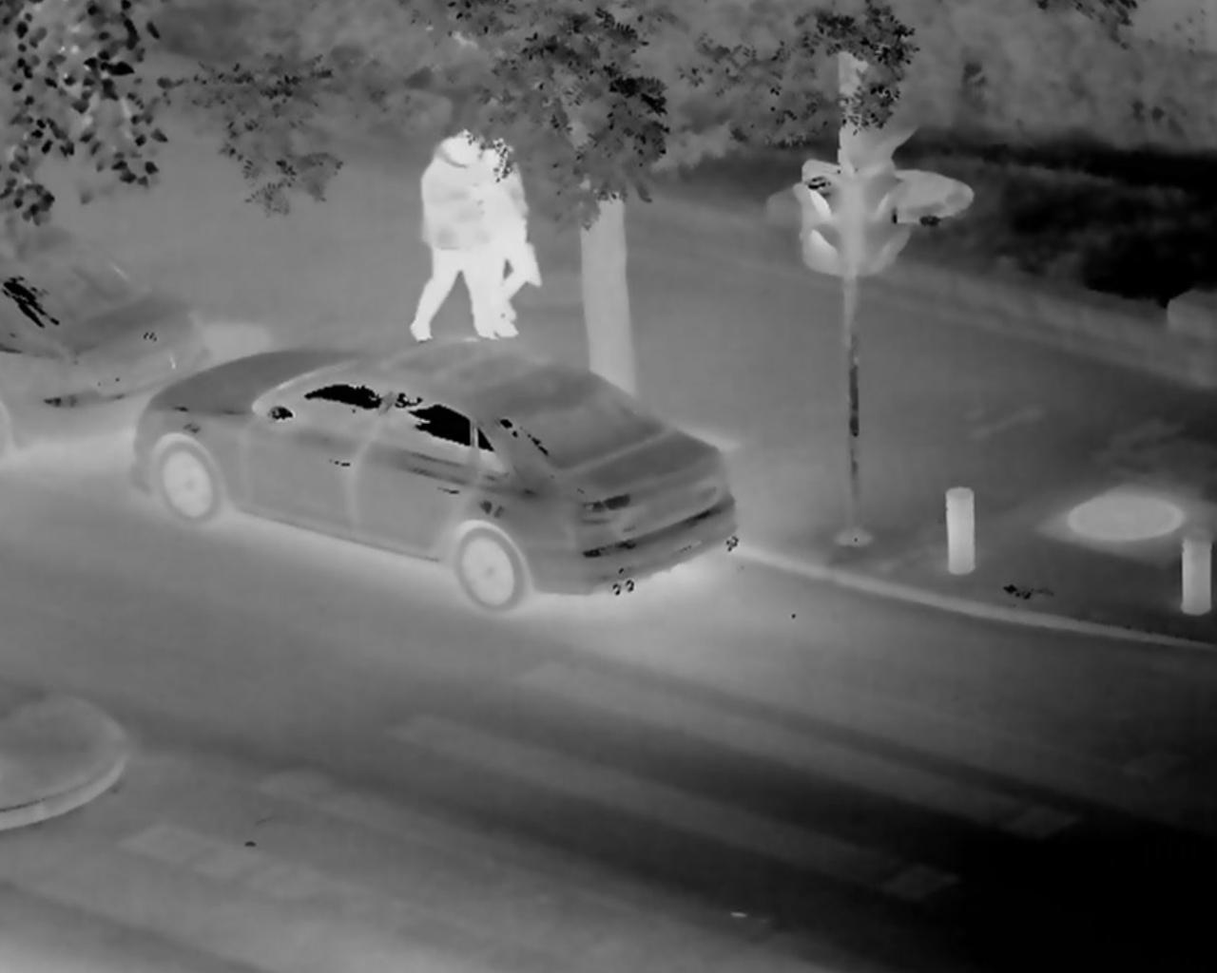person: (415, 125, 493, 338), (493, 143, 547, 337)
